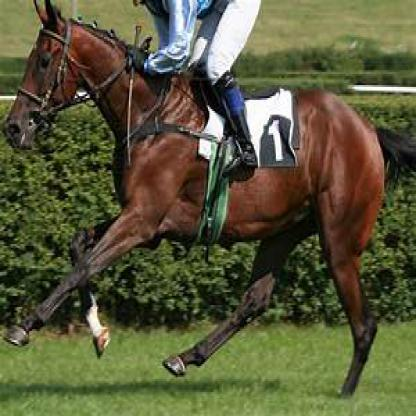horse: (14, 7, 392, 386)
